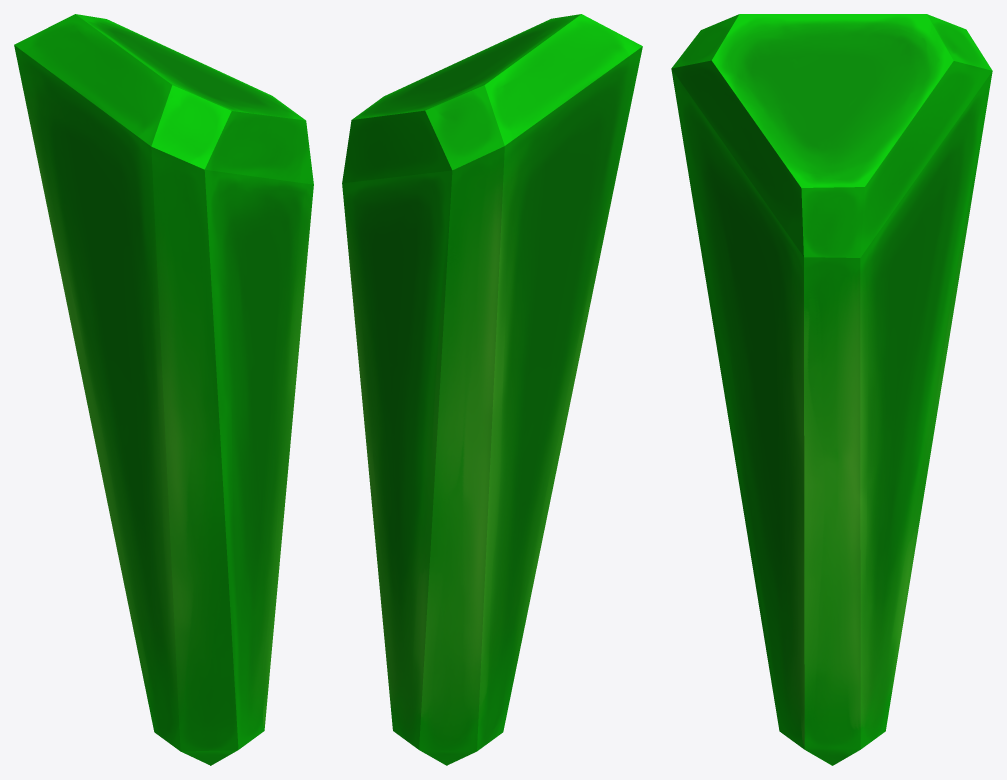
The model's file is GemTri.fbx.
The picture shows the model from 3 angles, left to right: view 1: azimuth 30°, elevation 25°; view 2: azimuth 150°, elevation 25°; view 3: azimuth 270°, elevation 25°; orthographic projection. The views are drawn at different scales.
Visible parts, largest first — view 1: GemTri; view 2: GemTri; view 3: GemTri.
Boxes of the visible parts, x1,y1,x2,y2 form: GemTri: (14, 14, 313, 765); GemTri: (342, 14, 642, 765); GemTri: (671, 14, 992, 765).
Size of the model in its own units: 61.33 by 198 by 81.15.
1 material, 1 textured.
